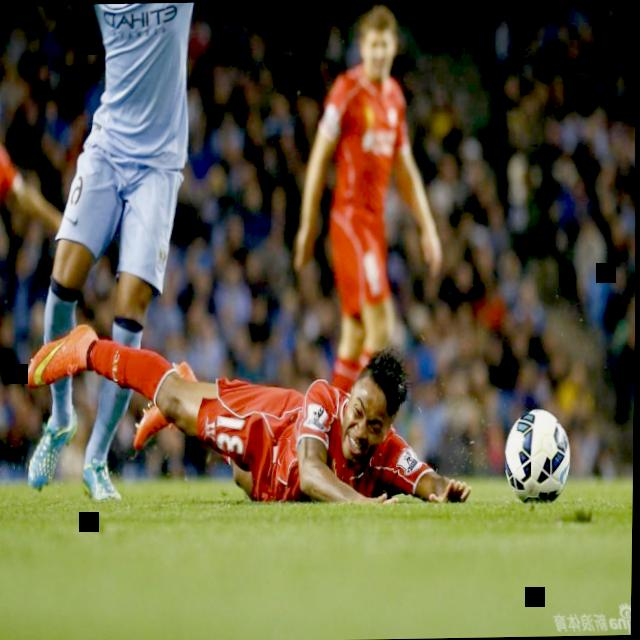Fall-Detected: (28, 311, 463, 518)
